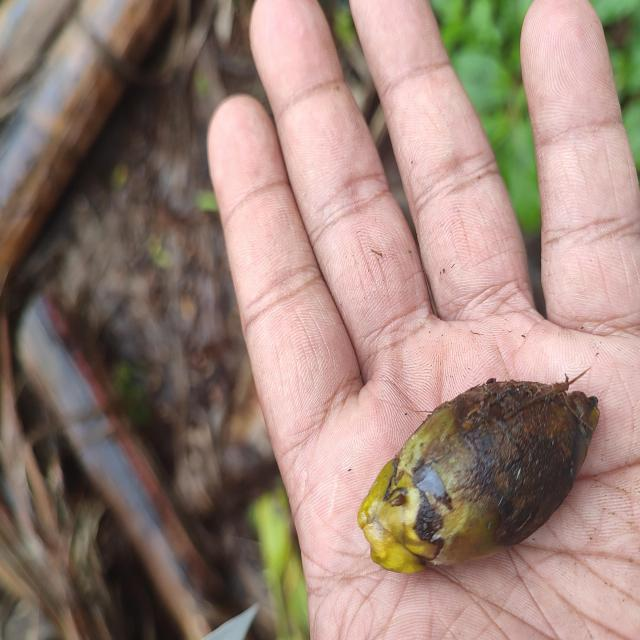damaged: (354, 377, 600, 577)
